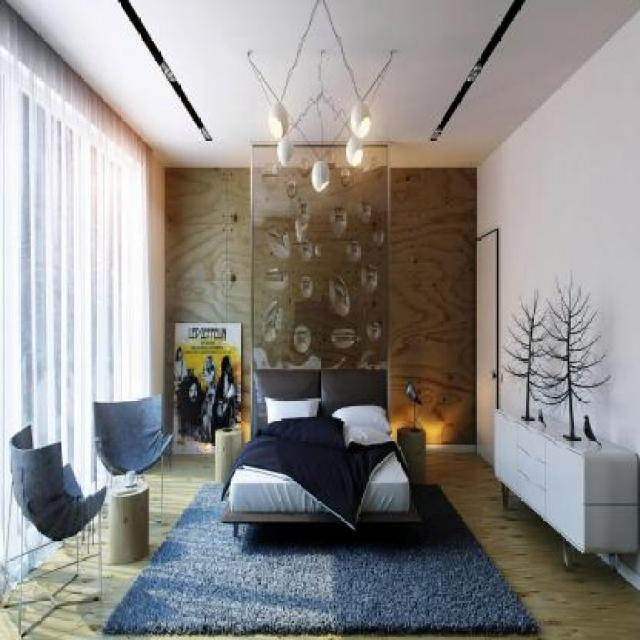Floor: (21, 452, 640, 640), (23, 535, 77, 582), (53, 554, 99, 602), (22, 562, 78, 601), (20, 598, 55, 634), (78, 512, 100, 560), (0, 601, 20, 639)
